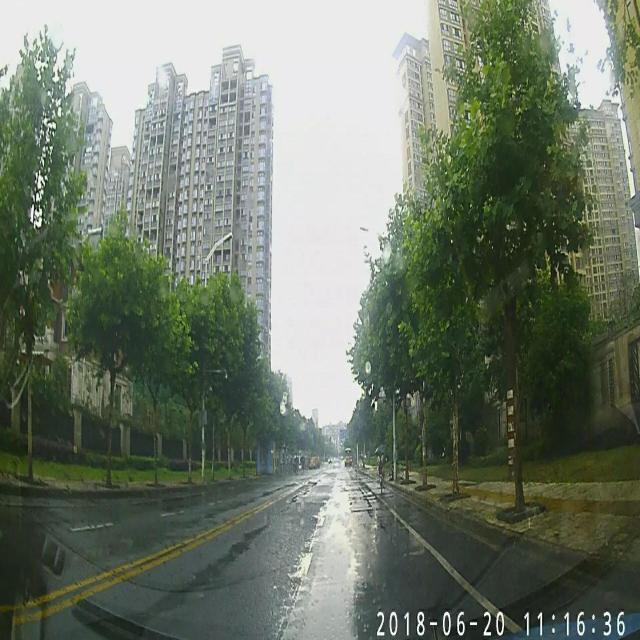car: (308, 455, 322, 470)
